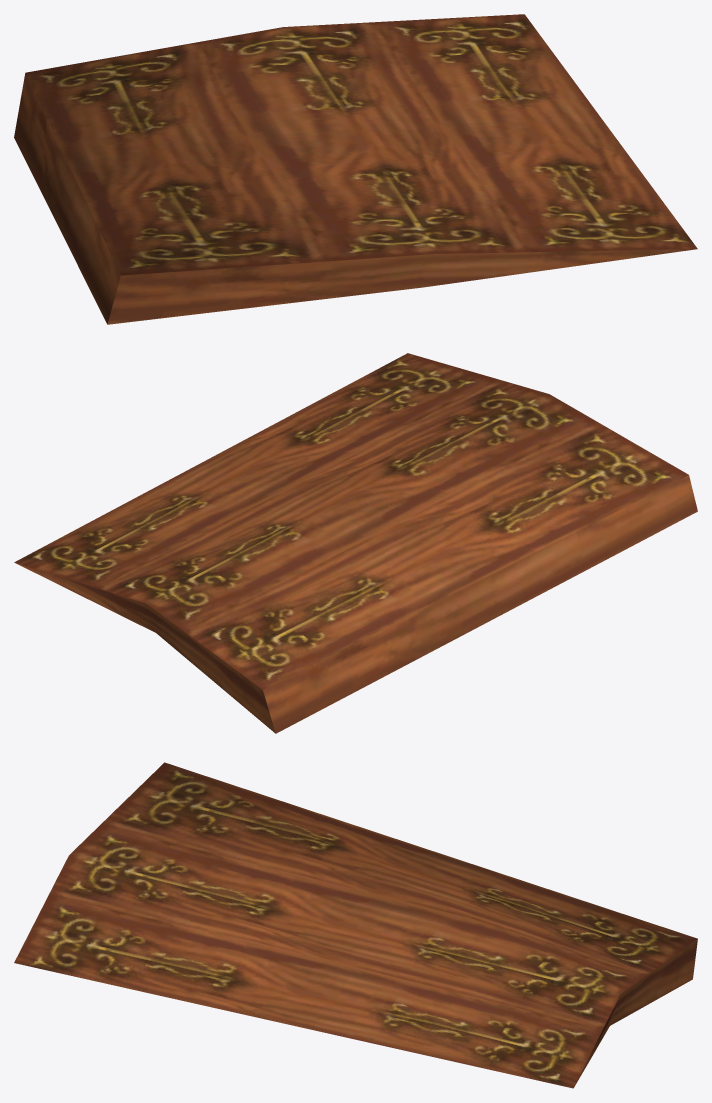
File: EKH_THRONE_PS_TH_THRONE_STEP_03.fbx
The picture shows the model from 3 angles, top to bottom: view 1: azimuth 30°, elevation 25°; view 2: azimuth 150°, elevation 25°; view 3: azimuth 270°, elevation 25°; orthographic projection. The views are drawn at different scales.
Parts seen in each view (by area): view 1: EKH_THRONE_PS_TH_THRONE_STEP_03; view 2: EKH_THRONE_PS_TH_THRONE_STEP_03; view 3: EKH_THRONE_PS_TH_THRONE_STEP_03.
Part boxes in pixels (box(x1,y1,x2,y2)): EKH_THRONE_PS_TH_THRONE_STEP_03: box(14, 14, 697, 324); EKH_THRONE_PS_TH_THRONE_STEP_03: box(14, 353, 697, 733); EKH_THRONE_PS_TH_THRONE_STEP_03: box(14, 762, 697, 1088).
Size of the model in its own units: 14959 by 3567 by 16671.
Materials: 1 (1 with a texture image).
